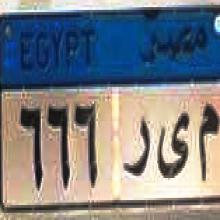6: (75, 100, 101, 190), (47, 101, 70, 189), (21, 105, 42, 188)
meem: (195, 99, 219, 180)
raa: (124, 115, 155, 184)
yaa: (158, 111, 192, 184)
